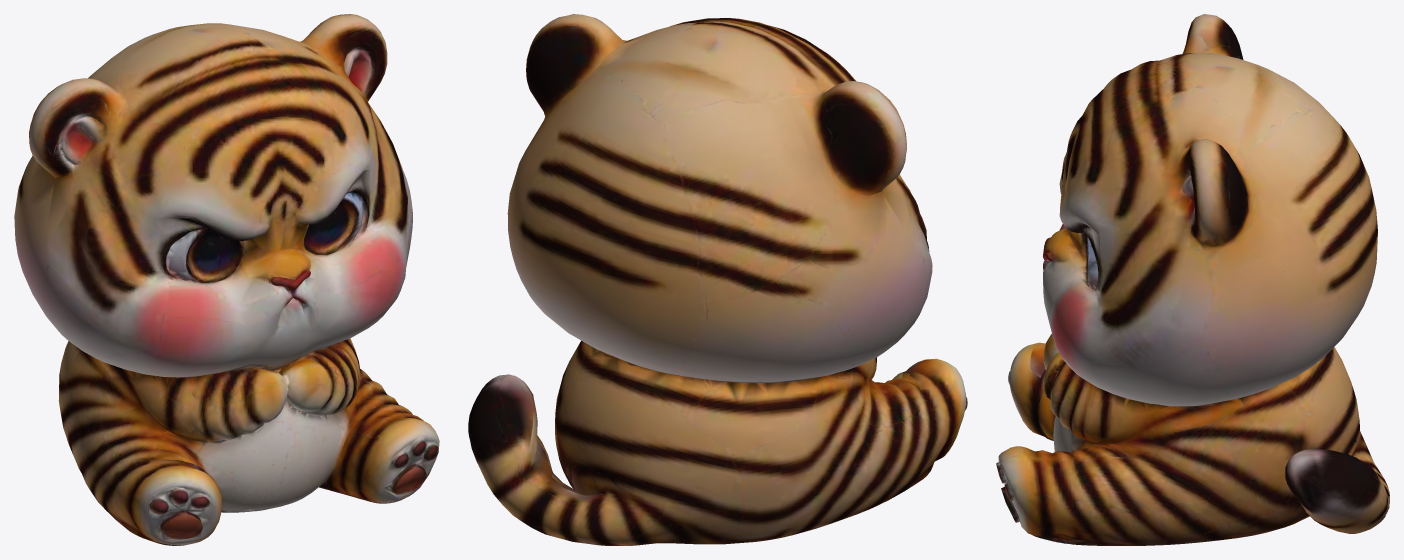
Rendered from tiger.glb.
3 renders of one model, left to right at view 1: azimuth 30°, elevation 25°; view 2: azimuth 150°, elevation 25°; view 3: azimuth 270°, elevation 25°, orthographic. The views are drawn at different scales.
Parts seen in each view (by area): view 1: texture_pbr_v128; view 2: texture_pbr_v128; view 3: texture_pbr_v128.
Part boxes in pixels (x1,y1,x2,y2): texture_pbr_v128: (14,14,439,545); texture_pbr_v128: (468,14,967,545); texture_pbr_v128: (996,14,1389,545).
Bounding box in the file's own units: 0.7922 × 0.8883 × 0.7614.
Materials: 1 (1 with a texture image).
